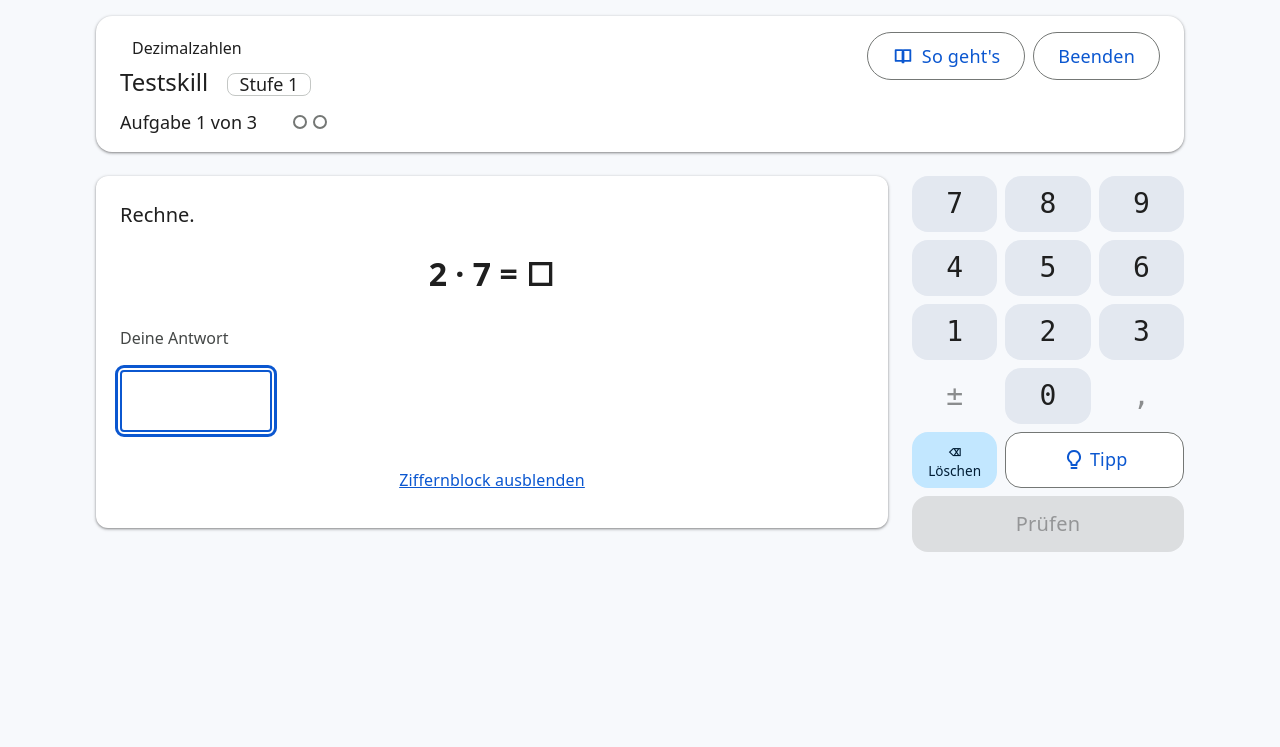
Test: PracticePage: attempts, examples and focus › while the 'So geht's' example is open, the Ziffernblock does not type into the hidden field
Expected: the button "Prüfen" is shown, [912,496,1184,552]
Click the button "So geht's" at (946, 56), box [867,32,1025,80]
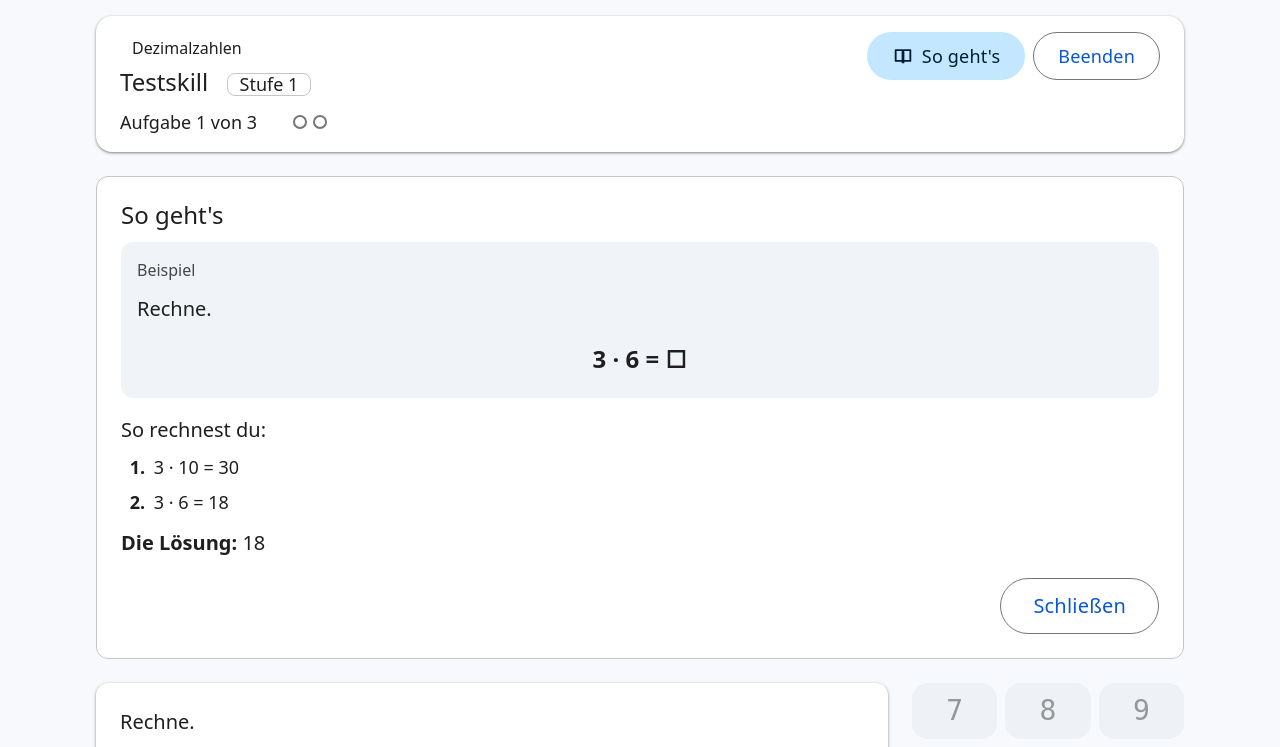
Expected: the button "7" is disabled, [912,683,997,739]
Click the button "Schließen" at (1080, 606), box [1000,578,1159,634]
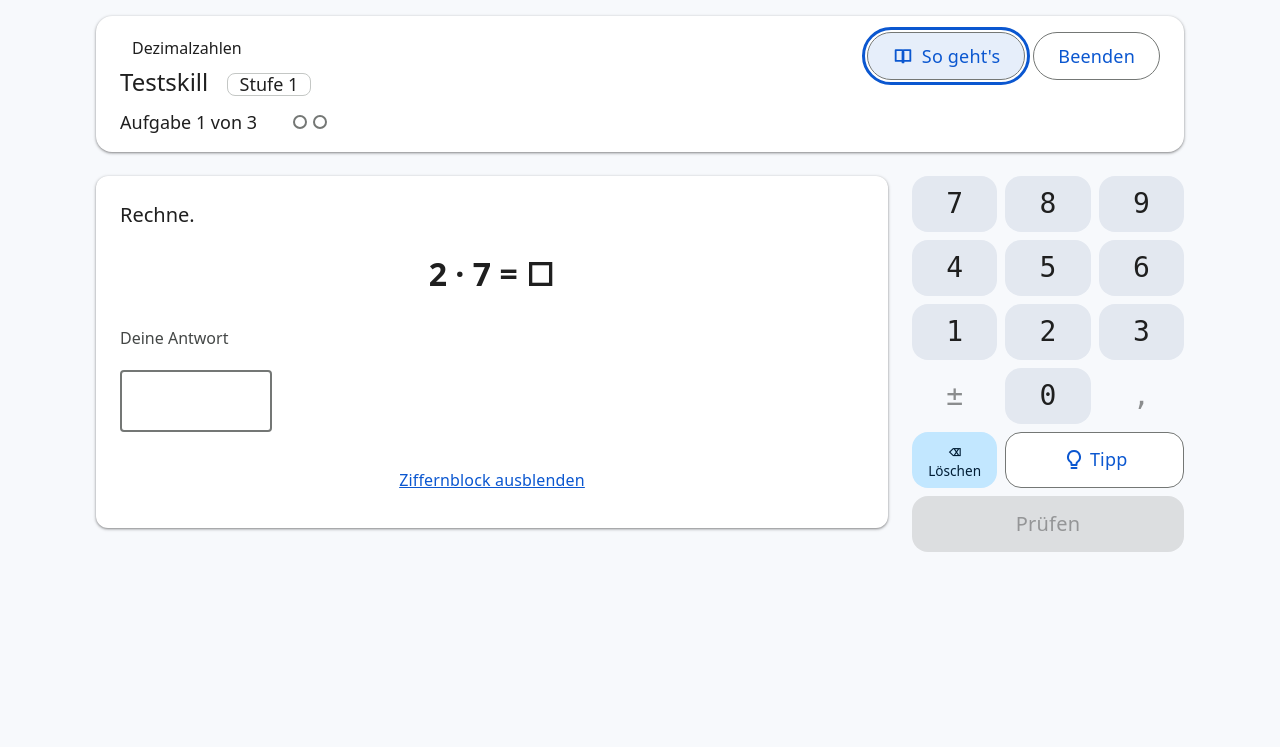
Expected: the button "7" is enabled, [912,176,997,232]
